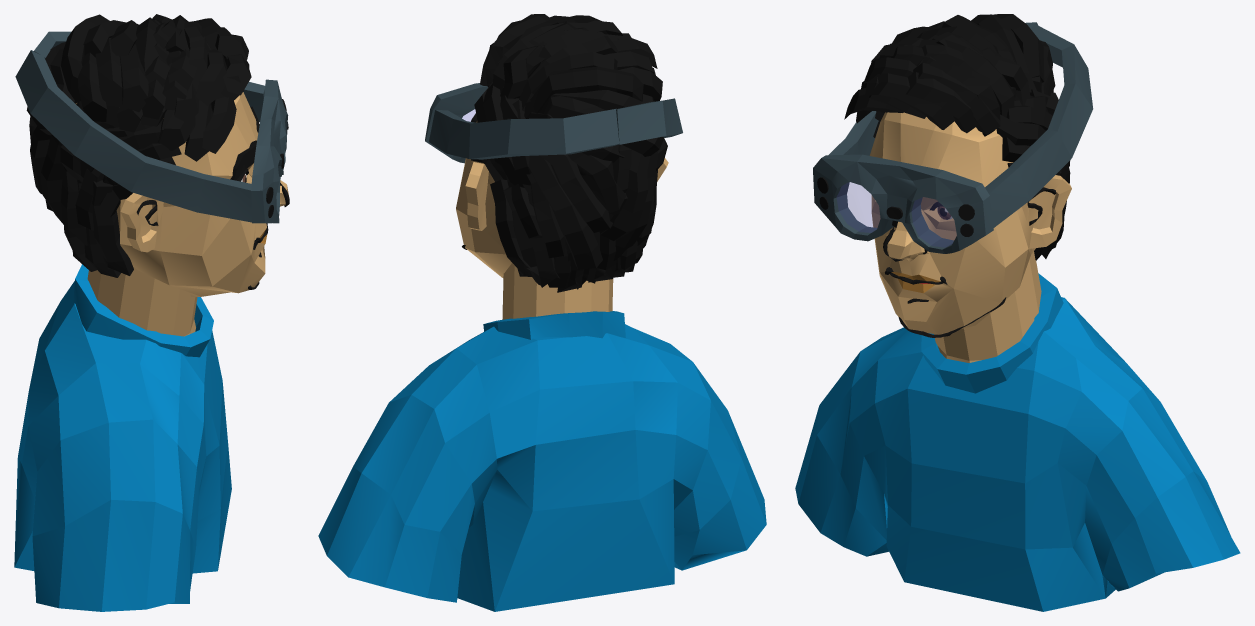
3 views of the same model, side by side, from view 1: azimuth 30°, elevation 25°; view 2: azimuth 150°, elevation 25°; view 3: azimuth 270°, elevation 25° (orthographic). The views are drawn at different scales.
Parts seen in each view (by area): view 1: node_MeshObject208980992-PolyPaper18; view 2: node_MeshObject208980992-PolyPaper18; view 3: node_MeshObject208980992-PolyPaper18, node_MeshObject781060096-PolyGlass24.
Part boxes in pixels (x1,y1,x2,y2): node_MeshObject208980992-PolyPaper18: (14, 14, 289, 611); node_MeshObject208980992-PolyPaper18: (318, 14, 766, 611); node_MeshObject208980992-PolyPaper18: (795, 14, 1240, 611); node_MeshObject781060096-PolyGlass24: (837, 182, 956, 247).
Size of the model in its own units: 0.6207 by 1.09 by 0.8219.
